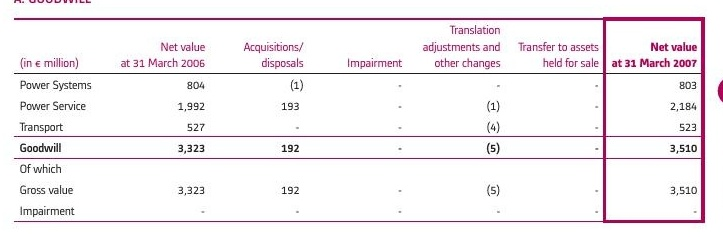table: (0, 0, 723, 237)
